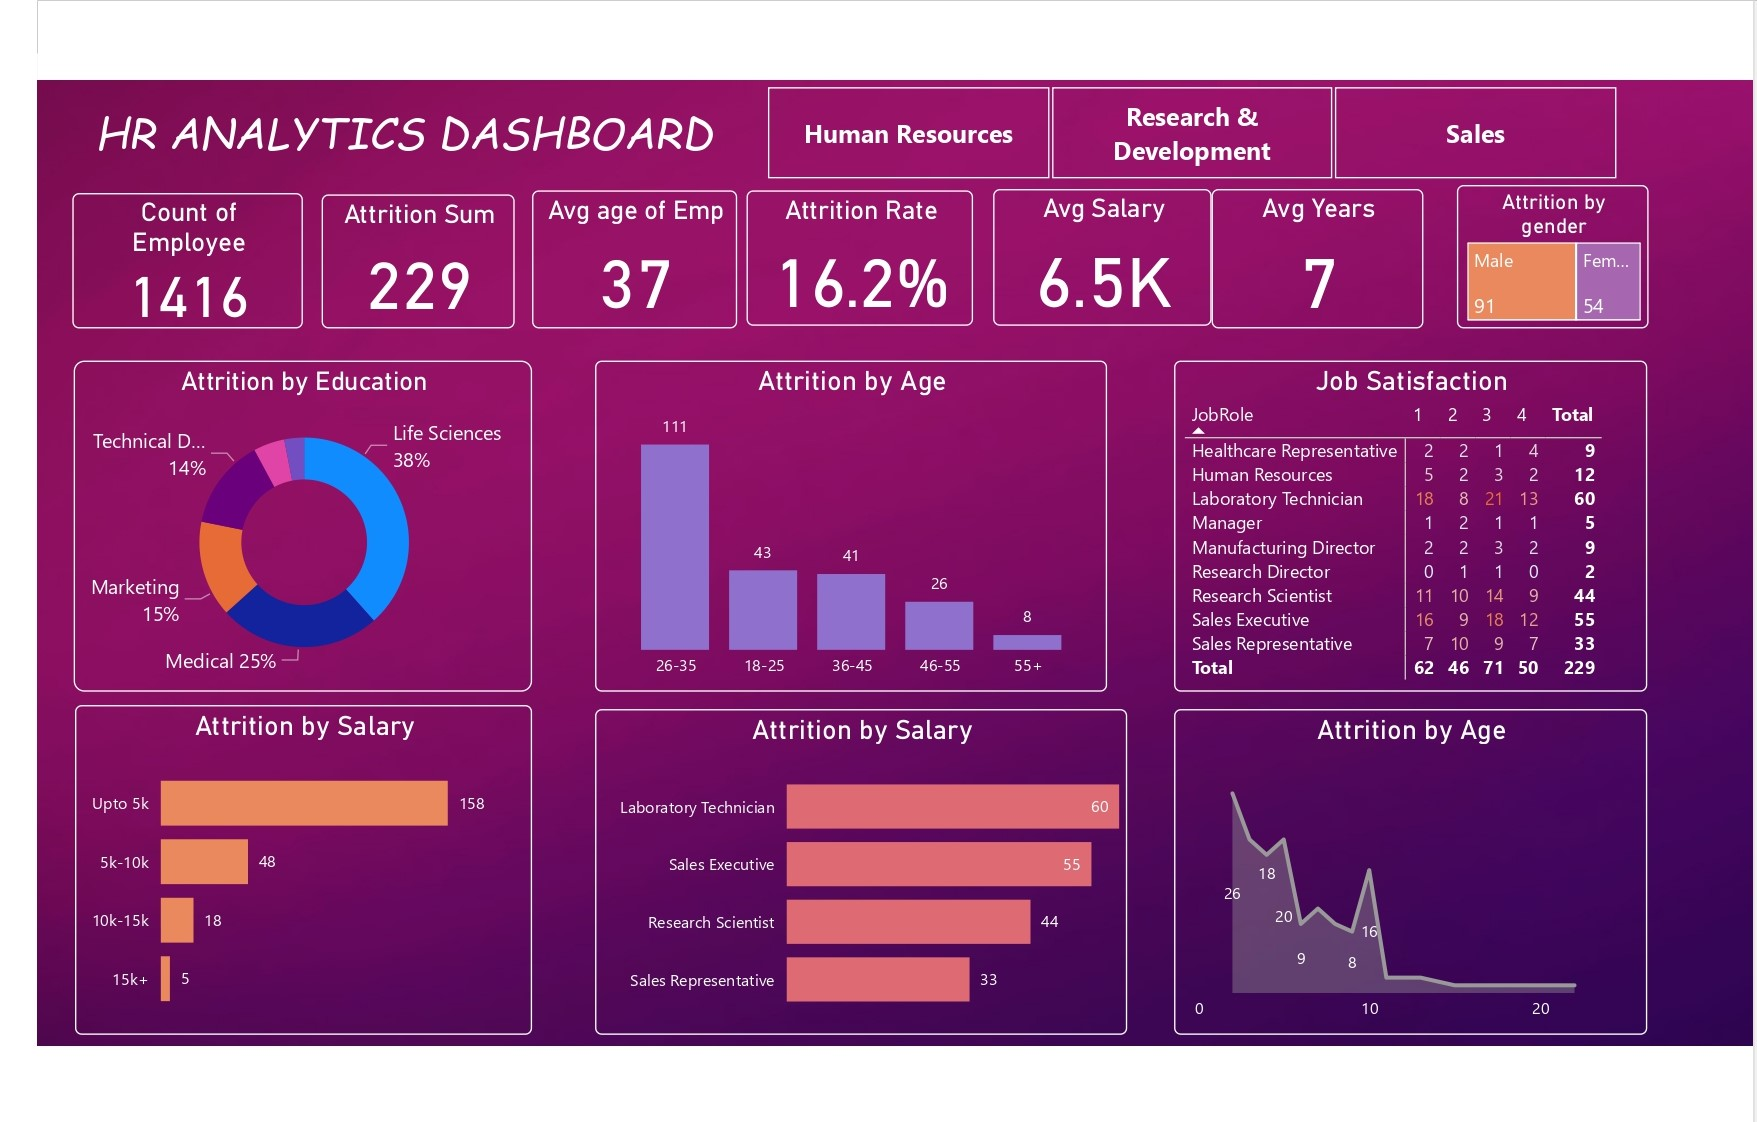

The page's visual inventory and layout, read from the dashboard file:
{"tool":"powerbi","page":{"name":"Page 1","canvas":[1280,720],"ordinal":0},"visuals":[{"type":"card","title":"Count of Employee","fields":{"Values":["CountNonNull(HR_Analytics.EmpID)"]},"box":[26,83.7,171.7,101],"z":0},{"type":"card","title":"Attrition Rate","fields":{"Values":["HR_Analytics.Attrition Rate"]},"box":[529.5,82.2,168.8,101],"z":1000},{"type":"card","title":"Avg Salary ","fields":{"Values":["Avg(HR_Analytics.MonthlyIncome)"]},"box":[712.7,80.8,163,102.4],"z":2000},{"type":"card","title":"Attrition Sum","fields":{"Values":["Sum(HR_Analytics.TotalAttrition)"]},"box":[212.1,85.1,144.3,99.6],"z":3000},{"type":"card","title":"Avg age of Emp","fields":{"Values":["Avg(HR_Analytics.Age)"]},"box":[369.3,82.2,152.9,102.4],"z":4000},{"type":"card","title":"Avg Years","fields":{"Values":["Avg(HR_Analytics.YearsAtCompany)"]},"box":[875.8,80.8,158.7,103.9],"z":5000},{"type":"donutChart","title":"Attrition by Education","fields":{"Y":["Sum(HR_Analytics.TotalAttrition)"],"Category":["HR_Analytics.EducationField"]},"box":[27.4,209.2,341.9,246.7],"z":6000},{"type":"clusteredColumnChart","title":"Attrition by Age","fields":{"Category":["HR_Analytics.AgeGroup"],"Y":["Sum(HR_Analytics.TotalAttrition)"]},"box":[415.5,209.2,382.3,246.7],"z":7000},{"type":"pivotTable","title":"Job Satisfaction","fields":{"Columns":["HR_Analytics.JobSatisfaction"],"Rows":["HR_Analytics.JobRole"],"Values":["Sum(HR_Analytics.TotalAttrition)"]},"box":[847.8,208.6,353.4,247.2],"z":8000},{"type":"barChart","title":"Attrition by Salary","fields":{"Category":["HR_Analytics.SalarySlab"],"Y":["Sum(HR_Analytics.TotalAttrition)"]},"box":[27.7,465.5,341.3,246],"z":9000},{"type":"barChart","title":"Attrition by Salary","fields":{"Y":["Sum(HR_Analytics.TotalAttrition)"],"Category":["HR_Analytics.JobRole"]},"box":[416.1,469.1,396.8,242.4],"z":10000},{"type":"treemap","title":"Attrition by gender","fields":{"Group":["HR_Analytics.Gender"],"Values":["Sum(HR_Analytics.TotalAttrition)"]},"box":[1059,77.9,142.8,106.8],"z":11000},{"type":"textbox","box":[26.5,10.9,494.5,55.5],"z":12000},{"type":"stackedAreaChart","title":"Attrition by Age","fields":{"Category":["HR_Analytics.YearsAtCompany"],"Y":["Sum(HR_Analytics.TotalAttrition)"]},"box":[847.8,469.1,353.4,242.4],"z":13000},{"type":"slicer","fields":{"Values":["HR_Analytics.Department"]},"box":[520.8,0,681,77.9],"z":14000}]}

Visuals, with their boxes in screenshot pixels (x1, y1, x2, y2):
"Count of Employee" card: {"left": 63, "top": 187, "right": 295, "bottom": 323}
"Attrition Rate" card: {"left": 744, "top": 184, "right": 973, "bottom": 321}
"Avg Salary " card: {"left": 992, "top": 183, "right": 1213, "bottom": 321}
"Attrition Sum" card: {"left": 315, "top": 188, "right": 510, "bottom": 323}
"Avg age of Emp" card: {"left": 527, "top": 184, "right": 734, "bottom": 323}
"Avg Years" card: {"left": 1213, "top": 183, "right": 1428, "bottom": 323}
"Attrition by Education" donutChart: {"left": 65, "top": 356, "right": 527, "bottom": 690}
"Attrition by Age" clusteredColumnChart: {"left": 590, "top": 356, "right": 1107, "bottom": 690}
"Job Satisfaction" pivotTable: {"left": 1175, "top": 356, "right": 1653, "bottom": 690}
"Attrition by Salary" barChart: {"left": 65, "top": 703, "right": 527, "bottom": 1036}
"Attrition by Salary" barChart: {"left": 591, "top": 708, "right": 1128, "bottom": 1036}
"Attrition by gender" treemap: {"left": 1461, "top": 179, "right": 1654, "bottom": 323}
textbox: {"left": 63, "top": 88, "right": 733, "bottom": 163}
"Attrition by Age" stackedAreaChart: {"left": 1175, "top": 708, "right": 1653, "bottom": 1036}
slicer - HR_Analytics.Department: {"left": 732, "top": 73, "right": 1654, "bottom": 179}
